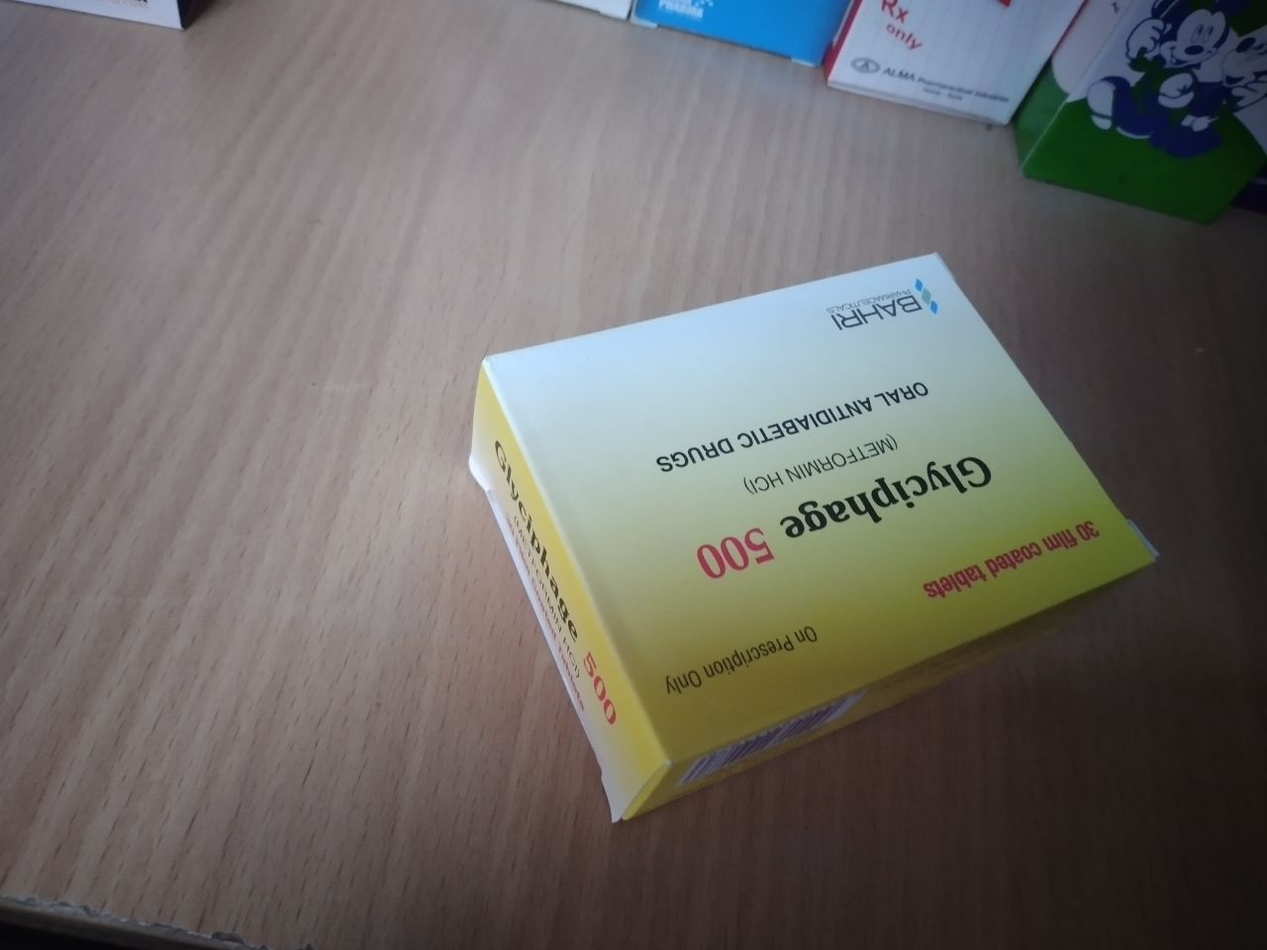Medicine: (458, 233, 1175, 816)
